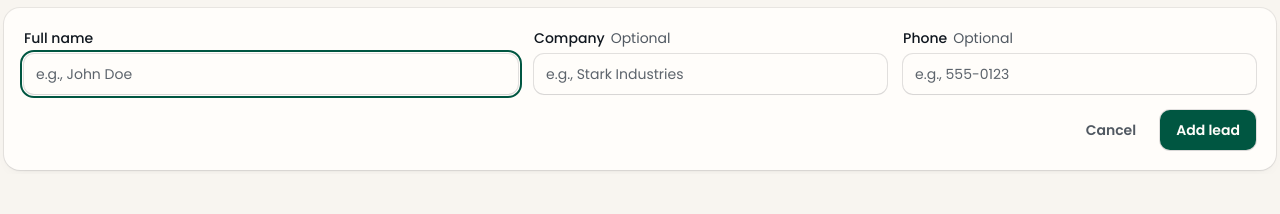
AddLeadPanel › requires a name before submitting
Click the button "Add lead": [1208, 130] box [1160, 110, 1256, 150]
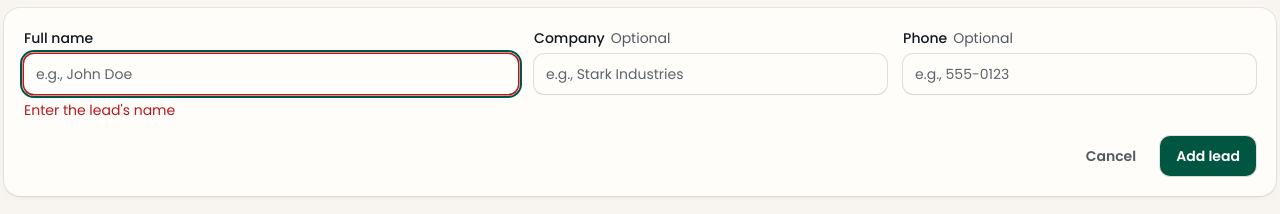
Expected: the text "Enter the lead's name" is shown, [24, 100, 175, 120]
